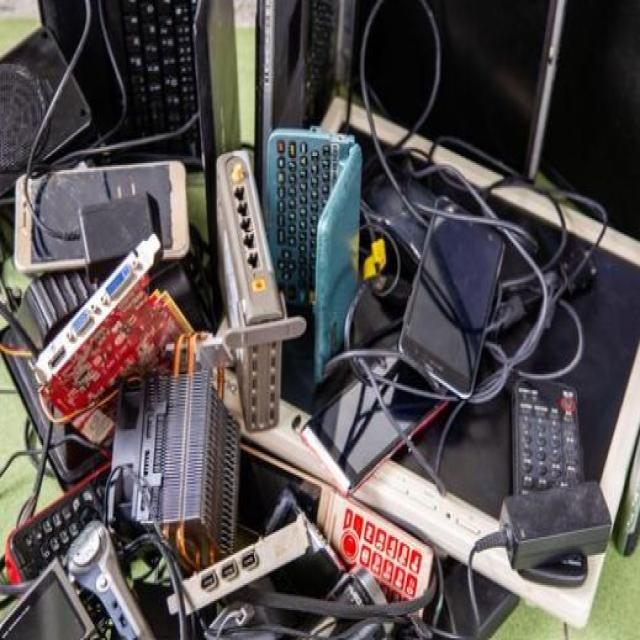electronic: (30, 0, 247, 315), (204, 420, 445, 610), (186, 139, 321, 446), (263, 107, 377, 437), (394, 176, 516, 435), (506, 361, 624, 620), (0, 455, 160, 628), (159, 513, 329, 638)
